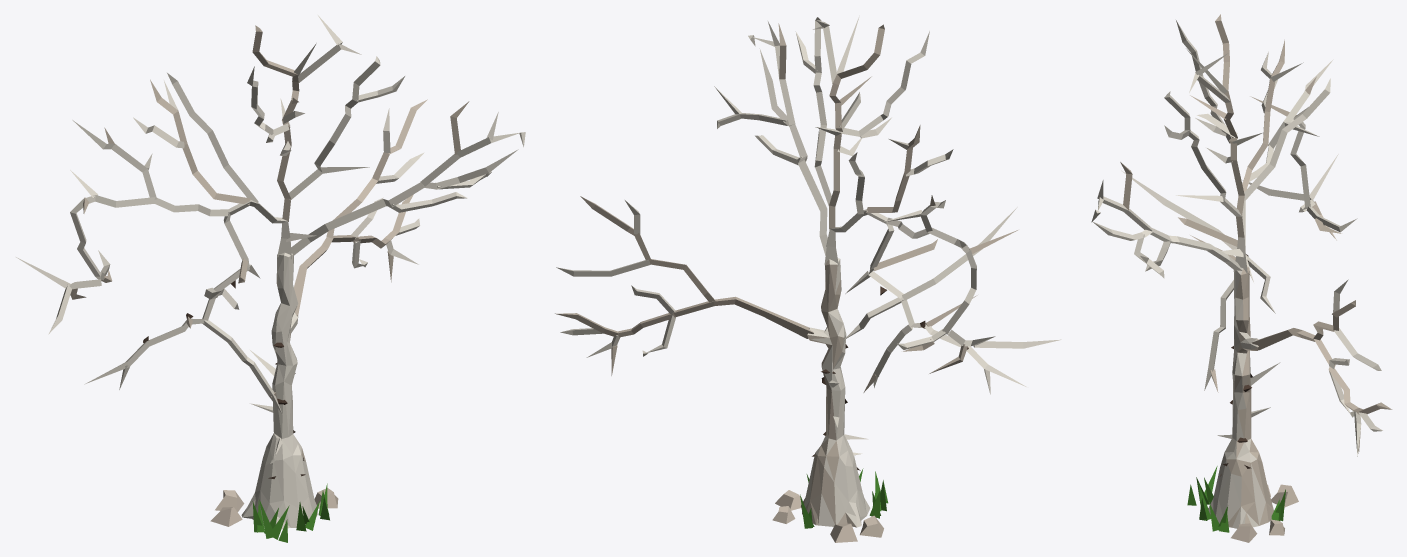
The model's file is birch_bare.glb.
The picture shows the model from 3 angles, left to right: view 1: azimuth 30°, elevation 25°; view 2: azimuth 150°, elevation 25°; view 3: azimuth 270°, elevation 25°; orthographic projection. The views are drawn at different scales.
Parts seen in each view (by area): view 1: birch_bare; view 2: birch_bare; view 3: birch_bare.
Boxes of the visible parts, x1,y1,x2,y2 form: birch_bare: (16,15,525,542); birch_bare: (555,15,1061,542); birch_bare: (1091,14,1392,542).
Bounding box in the file's own units: 6.53 × 7.07 × 3.98.
